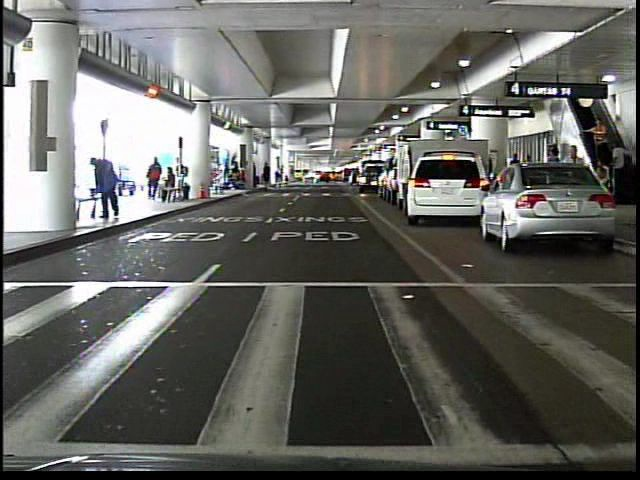person: (90, 152, 125, 223), (583, 116, 610, 168), (609, 138, 629, 192), (213, 165, 228, 200), (276, 162, 289, 190)
